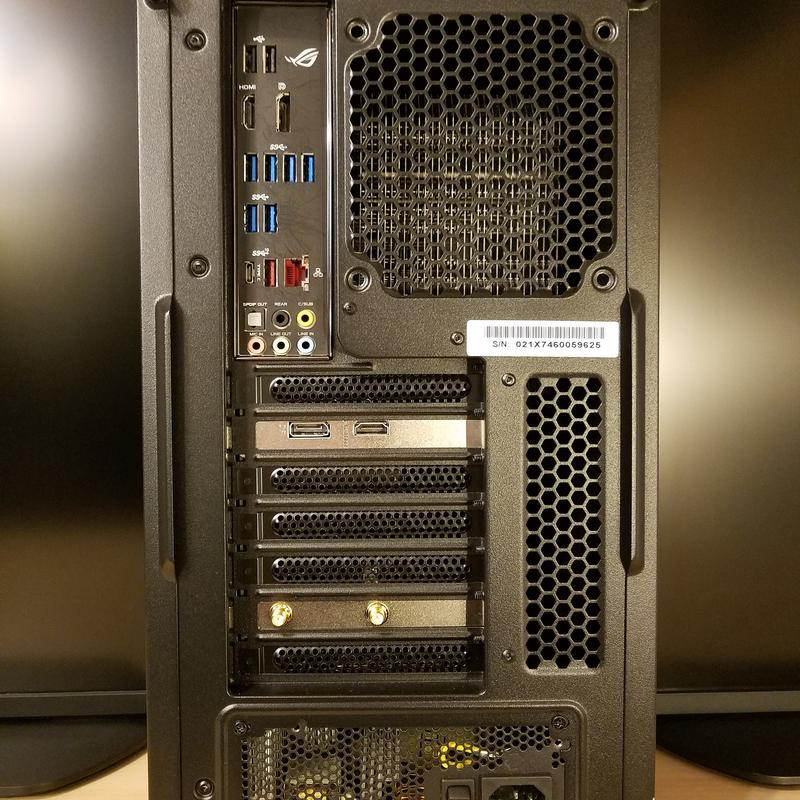AUDIO: (296, 332, 320, 361)
AUDIO_INPUT: (269, 330, 291, 359)
AUDIO_OUTPUT: (242, 332, 265, 355)
DISPLAYPORT: (278, 415, 334, 445)
ETHERNET: (279, 247, 314, 292)
HDMI: (235, 84, 262, 134), (347, 417, 394, 439)
USB: (261, 33, 288, 75), (236, 145, 262, 187), (272, 150, 302, 186), (236, 198, 260, 237), (297, 147, 320, 187), (238, 33, 261, 73), (259, 251, 281, 292), (262, 194, 282, 236), (261, 148, 280, 184)
USBC: (241, 250, 259, 292)
